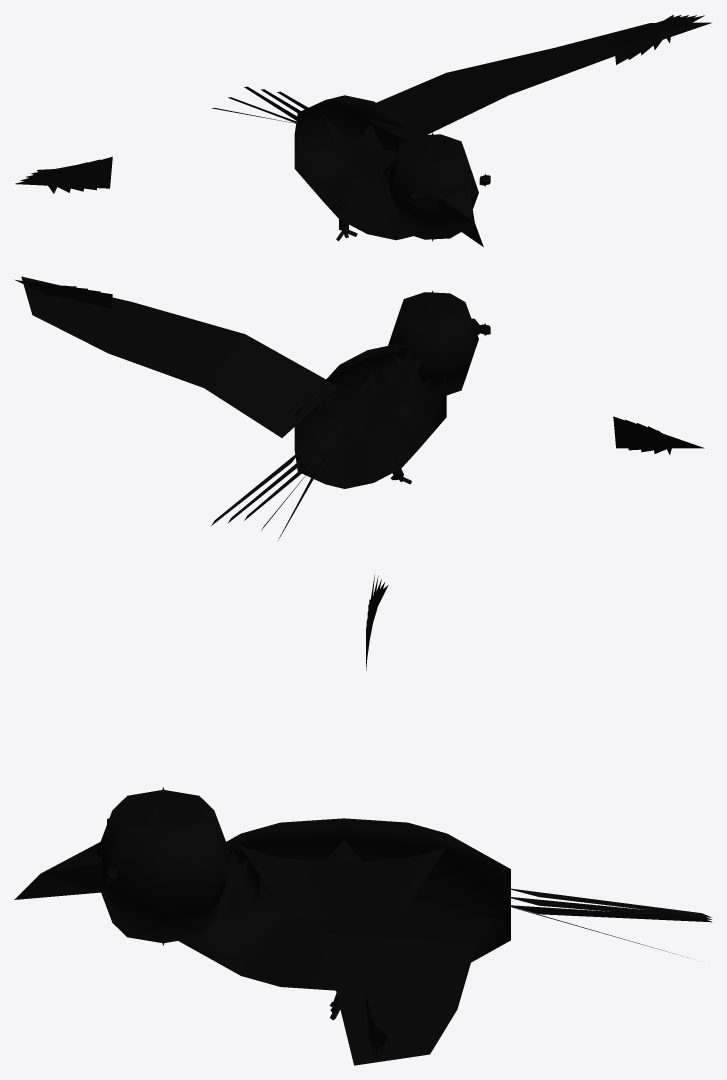
The model's file is gliding_05.glb.
3 views of the same model, one above another, from view 1: azimuth 30°, elevation 25°; view 2: azimuth 150°, elevation 25°; view 3: azimuth 270°, elevation 25° (orthographic). The views are drawn at different scales.
Visible parts, largest first — view 1: RaptorBody; view 2: RaptorBody; view 3: RaptorBody.
Part boxes in pixels (<box>): RaptorBody: <box>15,15,711,246</box>; RaptorBody: <box>14,276,704,539</box>; RaptorBody: <box>14,574,712,1065</box>.
Size of the model in its own units: 1.99 by 0.3983 by 1.19.
7 materials, 7 textured.
